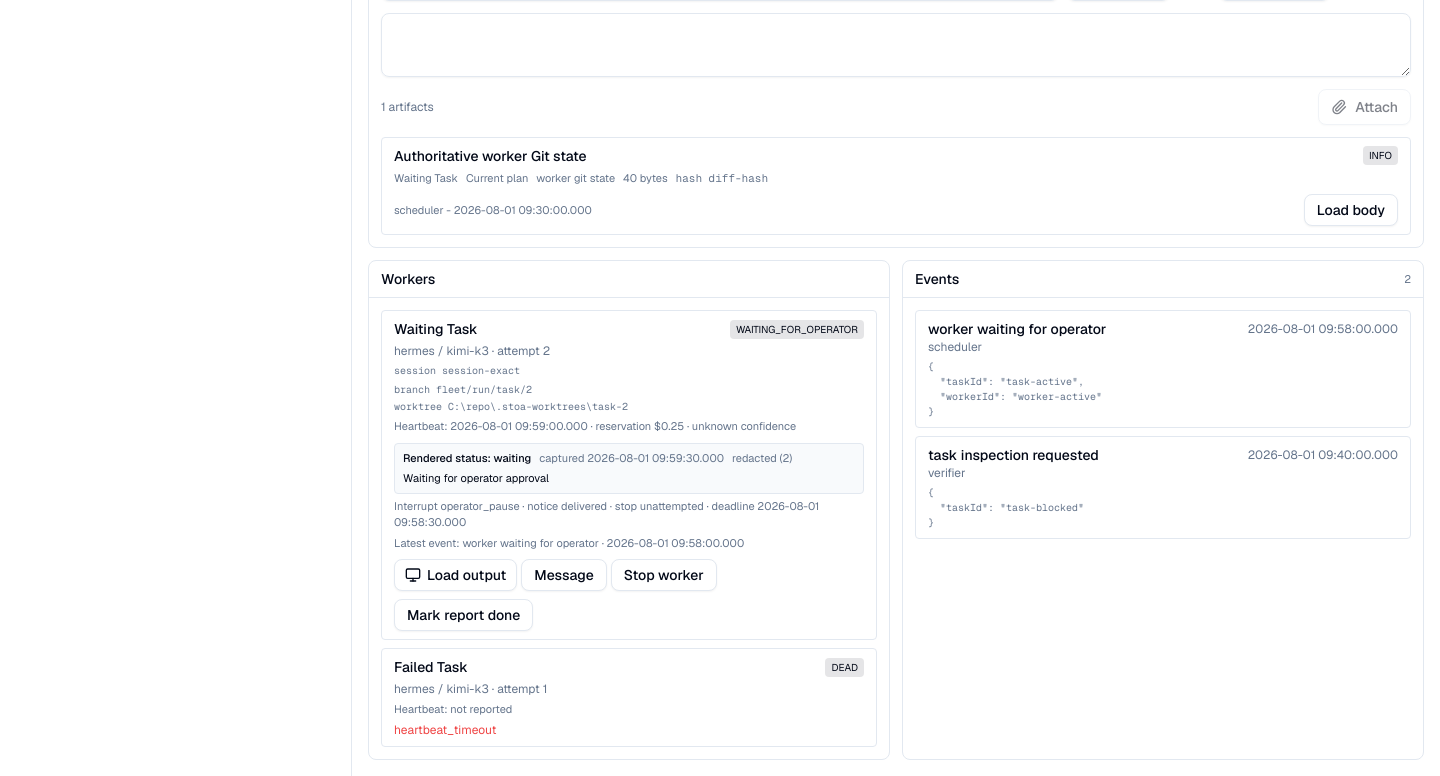
Test: FleetManagementView status drilldowns › loads output for only the selected exact worker without exposing generic session attachment
(page scrolled)
Step 1. Click the button with aria-label "Rendered output for worker attempt 2" → (456, 575), box x1=394 y1=559 x2=517 y2=591
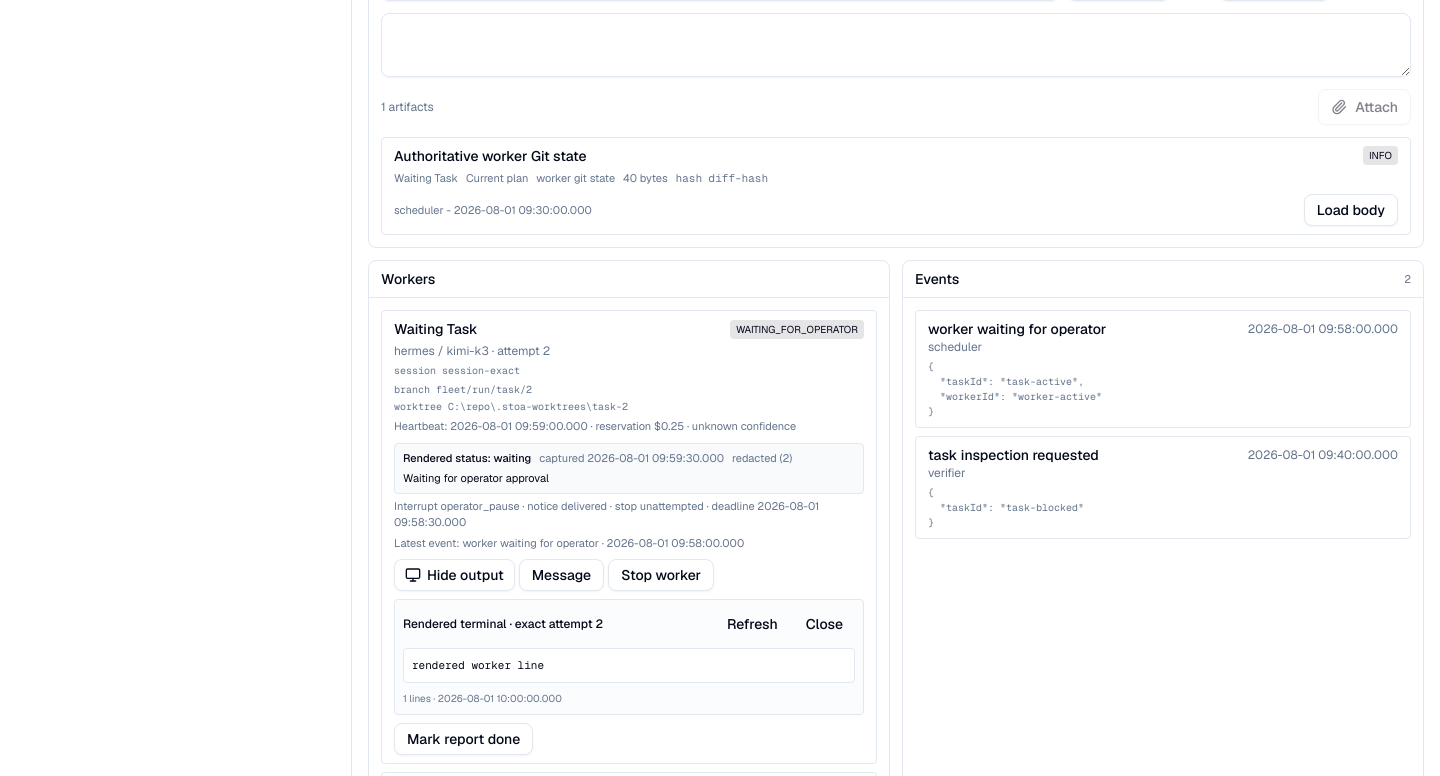
Check: the text with test id "worker-meta-worker-active" shows "2026-08-01 09:59:00.000", box x1=450 y1=419 x2=588 y2=433
Check: the text "rendered worker line" is shown, box x1=403 y1=648 x2=855 y2=683
